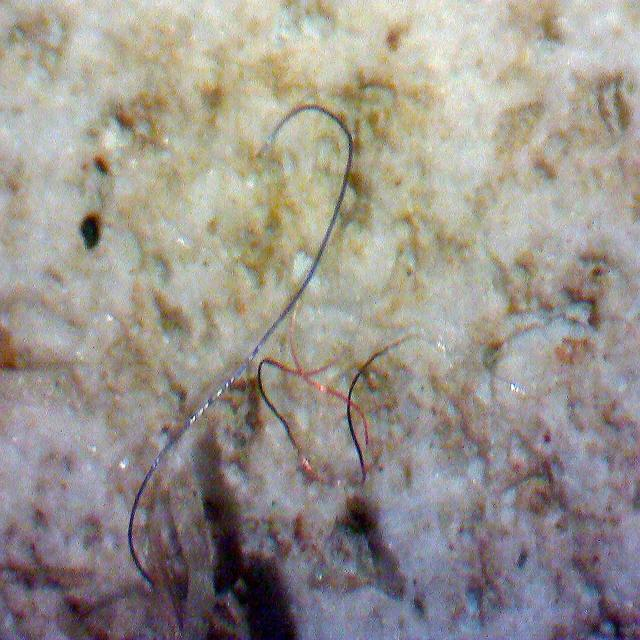microplastic: (128, 105, 353, 586), (258, 335, 414, 489), (305, 378, 369, 443)
